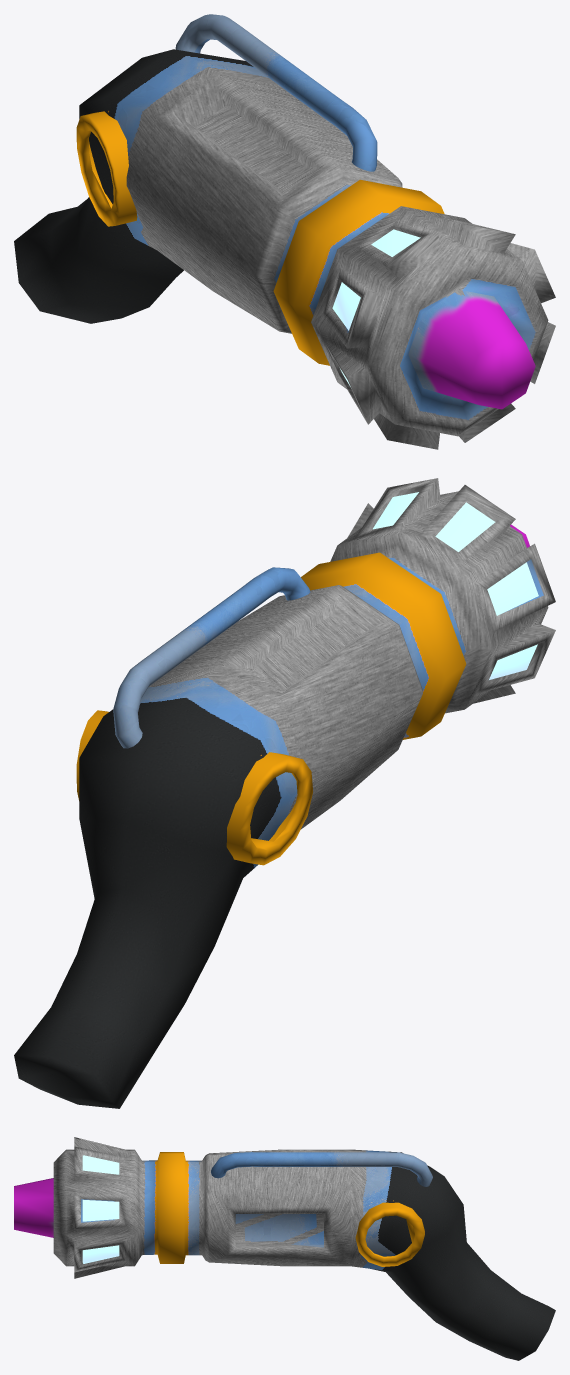
The model's file is Clensing tool.fbx.
3 renders of one model, top to bottom at view 1: azimuth 30°, elevation 25°; view 2: azimuth 150°, elevation 25°; view 3: azimuth 270°, elevation 25°, orthographic. The views are drawn at different scales.
Visible parts, largest first — view 1: Cube1, Light.001; view 2: Cube1, Light.001; view 3: Cube1, Light.001.
Boxes of the visible parts, left/top/right/bottom form: Cube1: left=14, top=14, right=555, bottom=449; Light.001: left=332, top=229, right=420, bottom=386; Cube1: left=14, top=478, right=555, bottom=1108; Light.001: left=373, top=492, right=538, bottom=679; Cube1: left=14, top=1137, right=555, bottom=1360; Light.001: left=82, top=1155, right=119, bottom=1263.
Size of the model in its own units: 140 by 233 by 526.
Materials: 2 (2 with a texture image).
